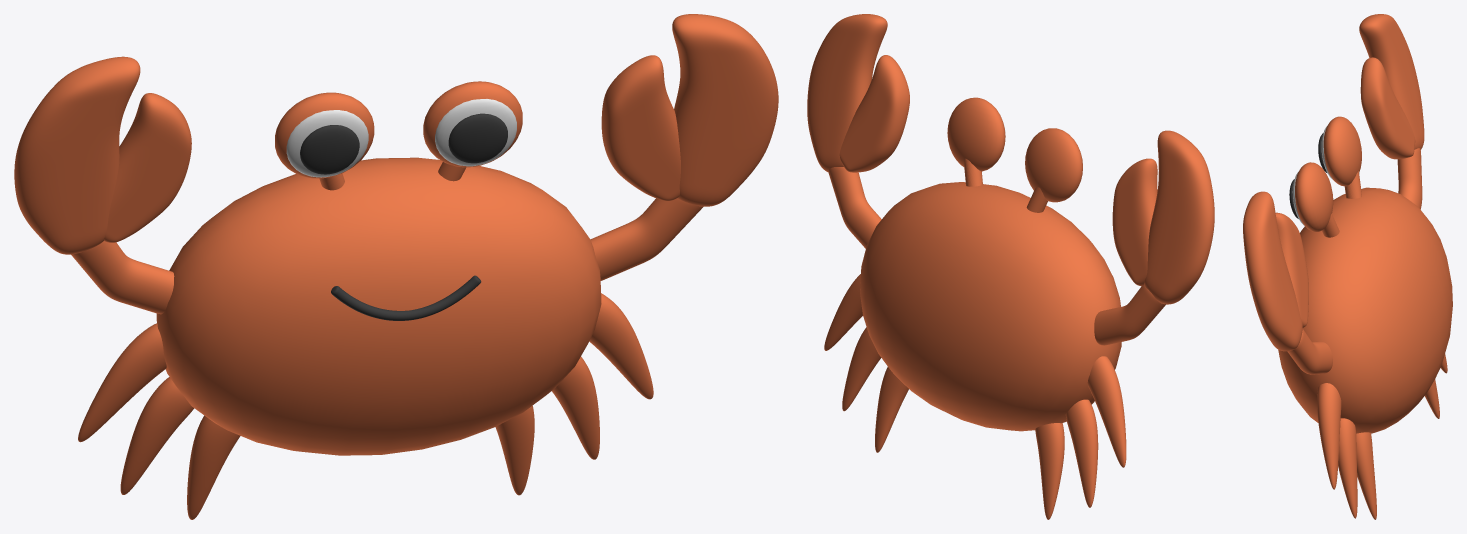
Rendered from Crab.glb.
3 renders of one model, left to right at view 1: azimuth 30°, elevation 25°; view 2: azimuth 150°, elevation 25°; view 3: azimuth 270°, elevation 25°, orthographic. The views are drawn at different scales.
Visible parts, largest first — view 1: Cube.006, Cube.012, Cube.013, Cube.011, Cube.007, Cube.009, Sphere.005, Cube.010, Sphere.007, Sphere.006, NurbsPath.001; view 2: Cube.006, Cube.012, Cube.013, Sphere.005, Cube.011, Cube.009, Cube.007, Cube.010, Cylinder.014; view 3: Cube.006, Cube.012, Cube.013, Sphere.005, Cube.011, Cube.007, Cube.010, Cube.009, Cylinder.014, Sphere.007, Sphere.006.
Part boxes in pixels (box(x1,y1,x2,y2)): Cube.006: box(156, 157, 601, 455); Cube.012: box(14, 14, 778, 254); Cube.013: box(104, 55, 680, 242); Cube.011: box(71, 198, 703, 314); Cube.007: box(78, 293, 653, 442); Cube.009: box(120, 356, 599, 494); Sphere.005: box(275, 81, 522, 178); Cube.010: box(187, 406, 534, 519); Sphere.007: box(300, 113, 507, 174); Sphere.006: box(286, 99, 516, 177); NurbsPath.001: box(331, 275, 481, 320); Cube.006: box(860, 182, 1121, 431); Cube.012: box(807, 14, 1214, 304); Cube.013: box(839, 55, 1157, 286); Sphere.005: box(947, 97, 1082, 202); Cube.011: box(828, 167, 1165, 345); Cube.009: box(842, 327, 1098, 507); Cube.007: box(824, 274, 1126, 467); Cube.010: box(875, 367, 1064, 519); Cylinder.014: box(964, 158, 1047, 212); Cube.006: box(1278, 187, 1452, 433); Cube.012: box(1243, 14, 1424, 351); Cube.013: box(1275, 57, 1415, 327); Sphere.005: box(1295, 116, 1361, 231); Cube.011: box(1287, 148, 1422, 374); Cube.007: box(1317, 383, 1341, 489); Cube.010: box(1356, 379, 1439, 519); Cube.009: box(1338, 354, 1447, 518); Cylinder.014: box(1322, 171, 1361, 237); Sphere.007: box(1289, 133, 1326, 218); Sphere.006: box(1292, 125, 1332, 225).
Bounding box in the file's own units: 5.81 × 4.53 × 2.35.
